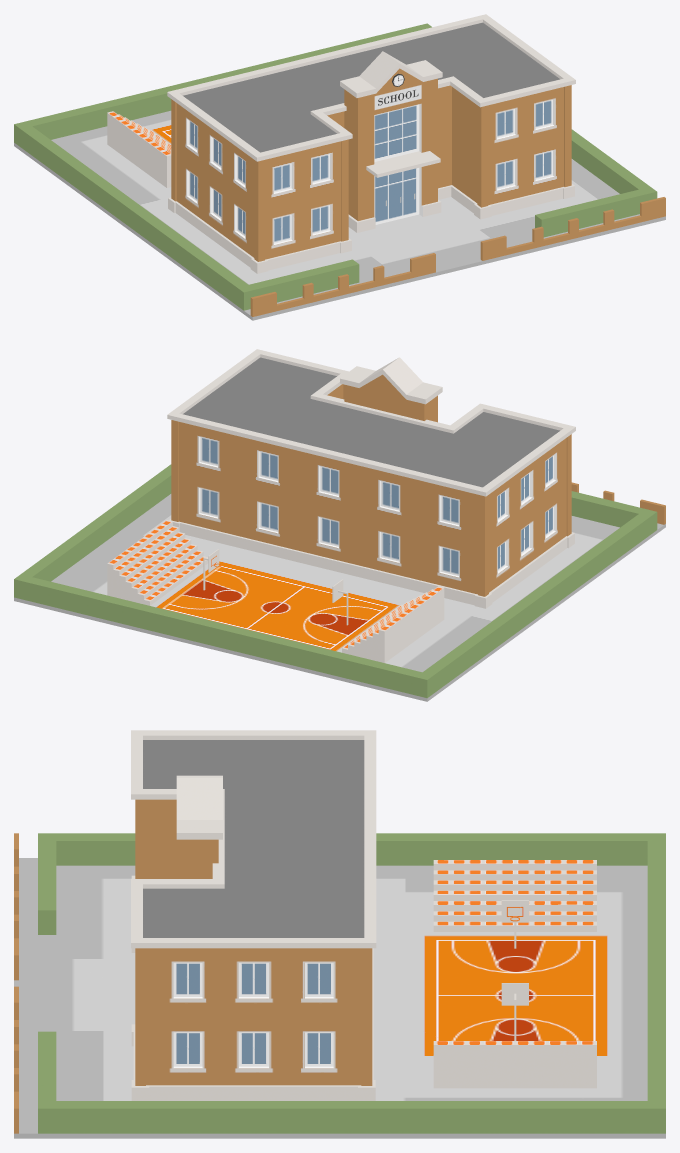
The model's file is School.glb.
The picture shows the model from 3 angles, top to bottom: view 1: azimuth 30°, elevation 25°; view 2: azimuth 150°, elevation 25°; view 3: azimuth 270°, elevation 25°; orthographic projection. The views are drawn at different scales.
Parts seen in each view (by area): view 1: Box164; view 2: Box164; view 3: Box164.
Part boxes in pixels (left/top/right/bottom): Box164: left=14, top=14, right=665, bottom=320; Box164: left=14, top=349, right=665, bottom=701; Box164: left=14, top=730, right=665, bottom=1138.
Size of the model in its own units: 12 by 4.53 by 12.
1 material, 1 textured.
